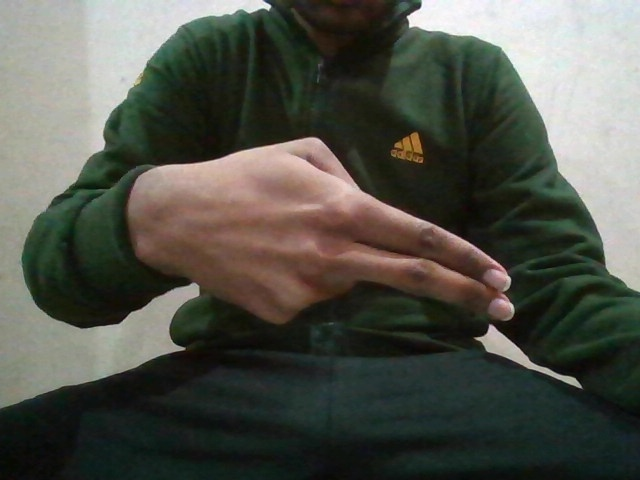H: (141, 134, 525, 330)
